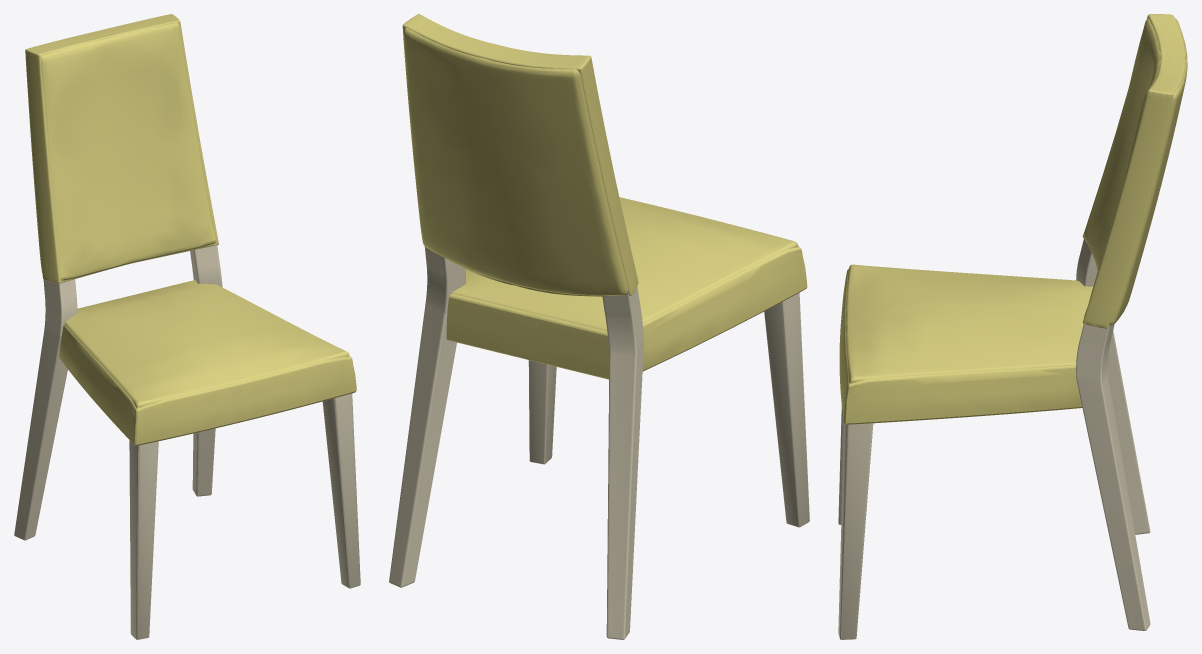
File: chair.glb
The picture shows the model from 3 angles, left to right: view 1: azimuth 30°, elevation 25°; view 2: azimuth 150°, elevation 25°; view 3: azimuth 270°, elevation 25°; orthographic projection. The views are drawn at different scales.
Visible parts, largest first — view 1: Object_19_4QURtt, Object_19_4QWsmt; view 2: Object_19_4QURtt, Object_19_4QWsmt; view 3: Object_19_4QURtt, Object_19_4QWsmt.
Boxes of the visible parts, box(x1,y1,x2,y2) form: Object_19_4QURtt: box(25, 14, 356, 445); Object_19_4QWsmt: box(14, 245, 360, 639); Object_19_4QURtt: box(402, 14, 807, 379); Object_19_4QWsmt: box(389, 246, 809, 639); Object_19_4QURtt: box(839, 14, 1187, 424); Object_19_4QWsmt: box(838, 239, 1150, 639).
Bounding box in the file's own units: 0.4712 × 0.9507 × 0.5711.
